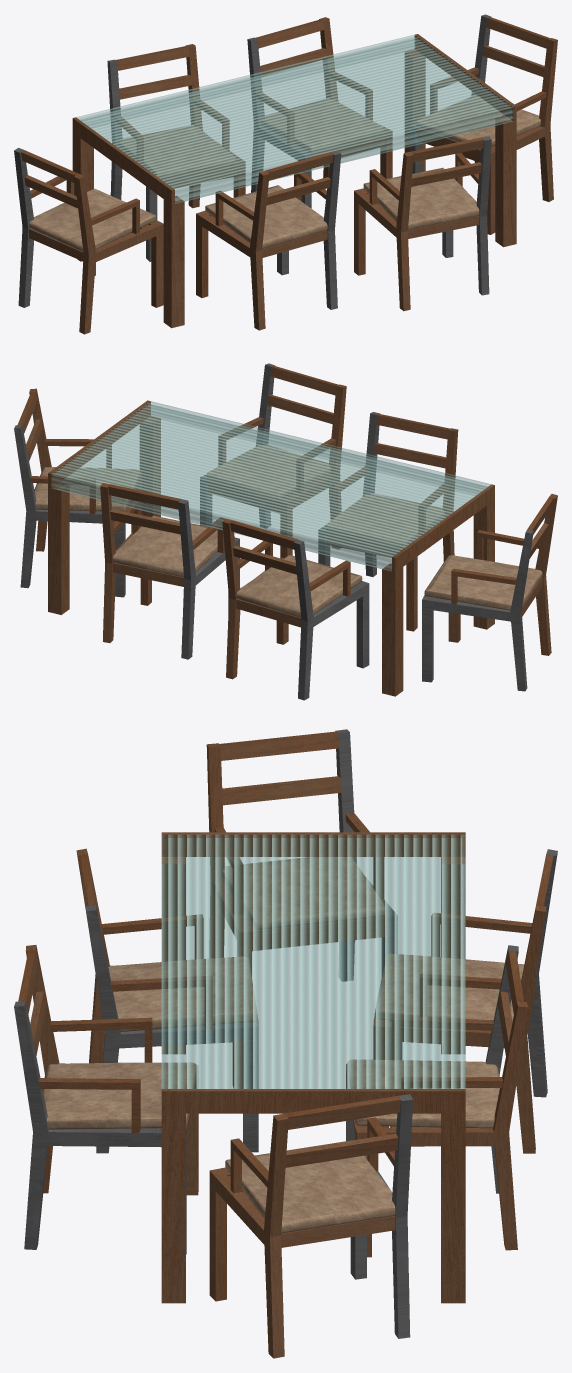
File: dinner-table.glb
3 views of the same model, one above another, from view 1: azimuth 30°, elevation 25°; view 2: azimuth 150°, elevation 25°; view 3: azimuth 270°, elevation 25° (orthographic). The views are drawn at different scales.
Parts seen in each view (by area): view 1: dinner table.001, dinner table, chair.004, chair.005, chair_rm, chair.002, chair.003, chair.001; view 2: dinner table.001, dinner table, chair.003, chair.005, chair.004, chair_rm, chair.002, chair.001; view 3: dinner table.001, dinner table, chair.001, chair_rm, chair.005, chair.004, chair.003, chair.002.
Part boxes in pixels (x1=…): dinner table.001: x1=76, y1=35, x2=513, y2=203; dinner table: x1=72, y1=34, x2=516, y2=328; chair.004: x1=196, y1=150, x2=341, y2=330; chair.005: x1=354, y1=136, x2=491, y2=311; chair_rm: x1=14, y1=148, x2=163, y2=334; chair.002: x1=247, y1=17, x2=392, y2=208; chair.003: x1=107, y1=44, x2=245, y2=261; chair.001: x1=409, y1=14, x2=557, y2=234; dinner table.001: x1=51, y1=401, x2=490, y2=571; dinner table: x1=48, y1=400, x2=494, y2=696; chair.003: x1=222, y1=518, x2=369, y2=700; chair.005: x1=200, y1=363, x2=346, y2=558; chair.004: x1=318, y1=412, x2=458, y2=631; chair_rm: x1=422, y1=494, x2=557, y2=691; chair.002: x1=100, y1=483, x2=239, y2=659; chair.001: x1=14, y1=388, x2=142, y2=597; dinner table.001: x1=161, y1=834, x2=465, y2=1088; dinner table: x1=161, y1=832, x2=465, y2=1303; chair.001: x1=209, y1=1094, x2=413, y2=1358; chair_rm: x1=206, y1=729, x2=397, y2=981; chair.005: x1=14, y1=945, x2=198, y2=1254; chair.004: x1=76, y1=848, x2=258, y2=1153; chair.003: x1=373, y1=849, x2=557, y2=1153; chair.002: x1=346, y1=945, x2=528, y2=1257.
Bounding box in the file's own units: 3.02 × 0.8742 × 1.77.
Materials: 4 (4 with a texture image).
